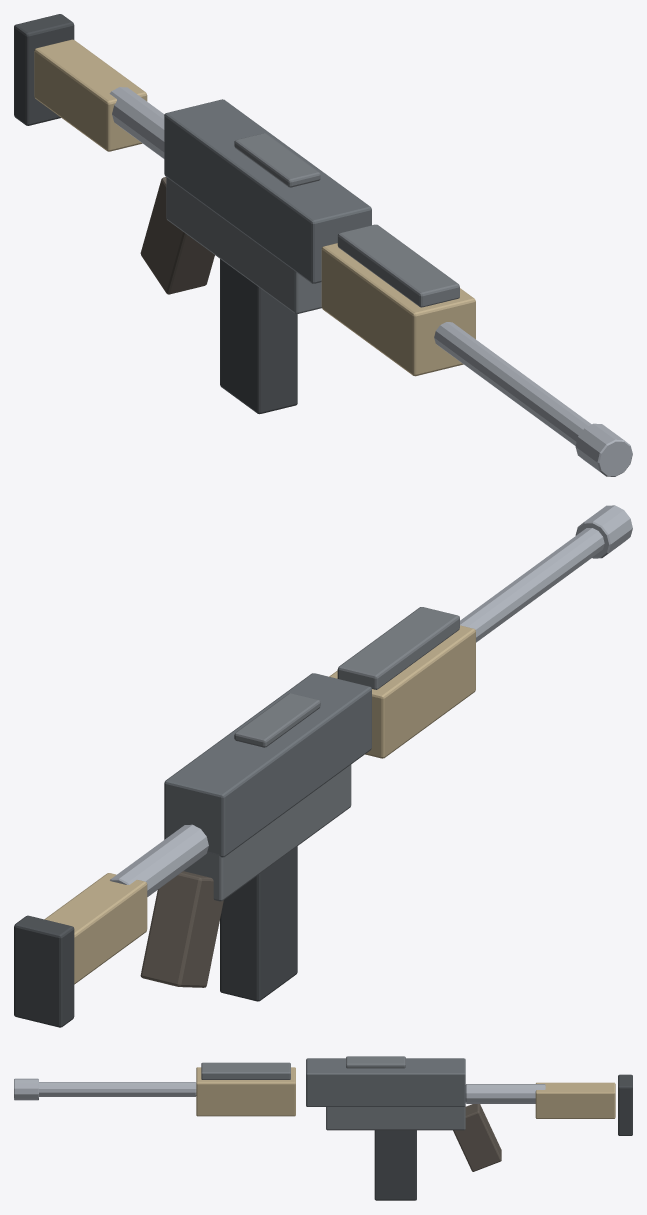
Rendered from battlerifle.glb.
3 renders of one model, top to bottom at view 1: azimuth 30°, elevation 25°; view 2: azimuth 150°, elevation 25°; view 3: azimuth 270°, elevation 25°, orthographic. The views are drawn at different scales.
Parts seen in each view (by area): view 1: Upper, Handguard, Mag, Stock, Lower, Barrel, TopRail, Grip, Butt, Carry, Buffer, Brake; view 2: Upper, Mag, Handguard, Grip, Lower, Butt, Stock, TopRail, Barrel, Buffer, Carry, Brake; view 3: Upper, Handguard, Lower, Mag, Stock, Barrel, Grip, TopRail, Buffer, Butt, Carry, Brake.
Boxes of the visible parts, bbox=[...] form: Upper: bbox=[164, 99, 371, 283]; Handguard: bbox=[321, 243, 475, 376]; Mag: bbox=[220, 259, 297, 414]; Stock: bbox=[34, 39, 147, 151]; Lower: bbox=[166, 177, 321, 313]; Barrel: bbox=[434, 322, 591, 445]; TopRail: bbox=[337, 224, 459, 307]; Grip: bbox=[140, 177, 214, 294]; Butt: bbox=[14, 14, 74, 125]; Carry: bbox=[234, 133, 320, 187]; Buffer: bbox=[109, 87, 164, 158]; Brake: bbox=[575, 423, 632, 476]; Upper: bbox=[164, 673, 371, 857]; Mag: bbox=[220, 846, 297, 1001]; Handguard: bbox=[329, 625, 475, 758]; Grip: bbox=[140, 871, 223, 987]; Lower: bbox=[184, 764, 351, 901]; Butt: bbox=[14, 915, 74, 1027]; Stock: bbox=[44, 873, 147, 984]; TopRail: bbox=[337, 607, 459, 689]; Barrel: bbox=[460, 528, 604, 642]; Buffer: bbox=[110, 824, 208, 896]; Carry: bbox=[234, 693, 320, 747]; Brake: bbox=[575, 505, 632, 558]; Upper: bbox=[306, 1058, 465, 1106]; Handguard: bbox=[196, 1067, 295, 1116]; Lower: bbox=[326, 1106, 465, 1130]; Mag: bbox=[374, 1130, 416, 1200]; Stock: bbox=[535, 1082, 615, 1118]; Barrel: bbox=[39, 1082, 196, 1096]; Grip: bbox=[453, 1104, 501, 1171]; TopRail: bbox=[201, 1062, 290, 1079]; Buffer: bbox=[465, 1084, 545, 1103]; Butt: bbox=[618, 1074, 632, 1135]; Carry: bbox=[346, 1056, 405, 1068]; Brake: bbox=[14, 1078, 38, 1100].
Bounding box in the file's own units: 0.078 × 0.3 × 1.24.
